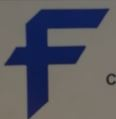Fisher: (4, 6, 111, 118)
